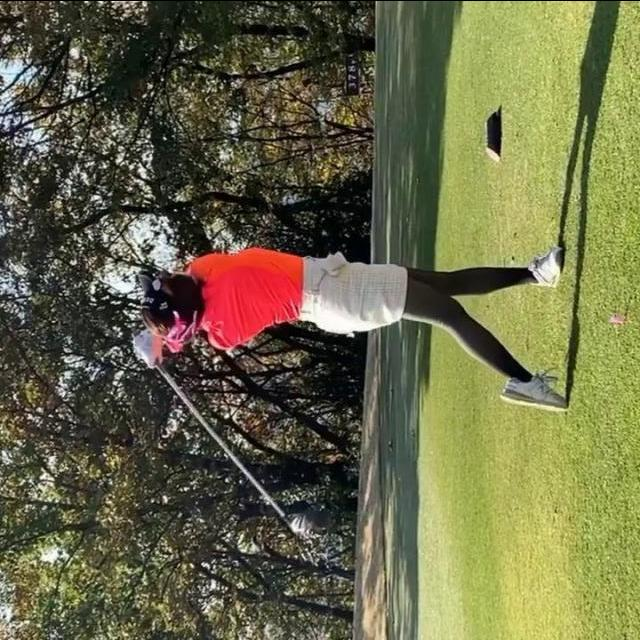golf club-handle: (132, 326, 331, 538)
golf club-head: (291, 509, 330, 538)
